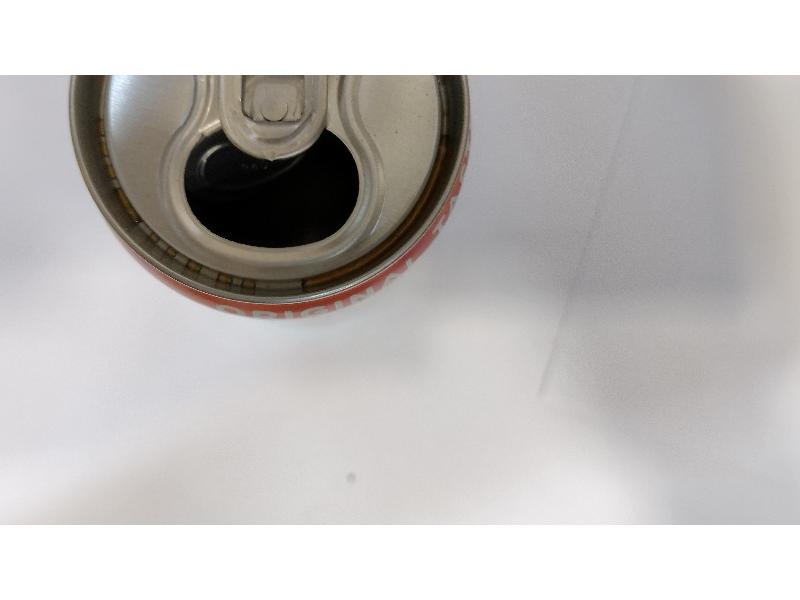can: (71, 78, 473, 324)
